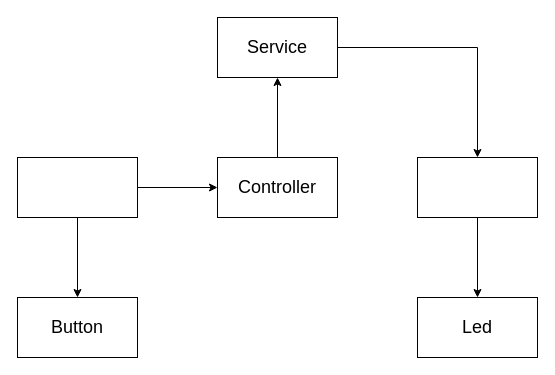
Image size: 555x375. Some labels were removed from this diagram. The centre of each missing label's shape, as x and y in pixels:
"Listener" goes at [77,187].
"View" goes at [477,187].
